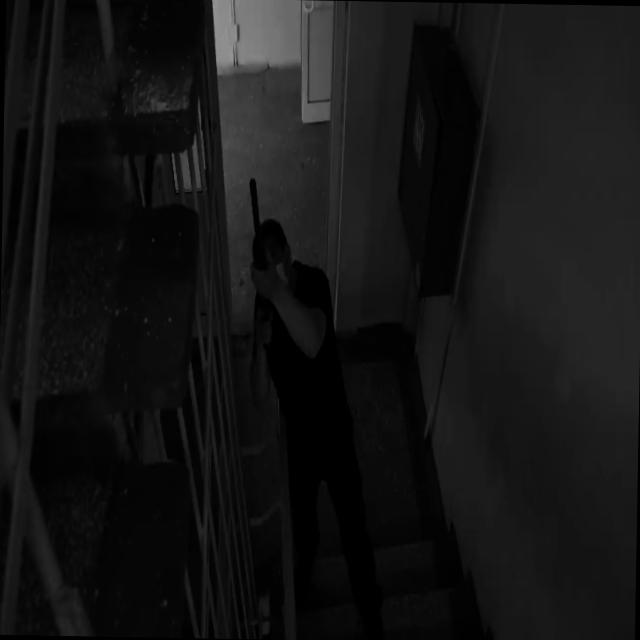gun: (245, 176, 281, 358)
person with a gun: (239, 177, 394, 640)
